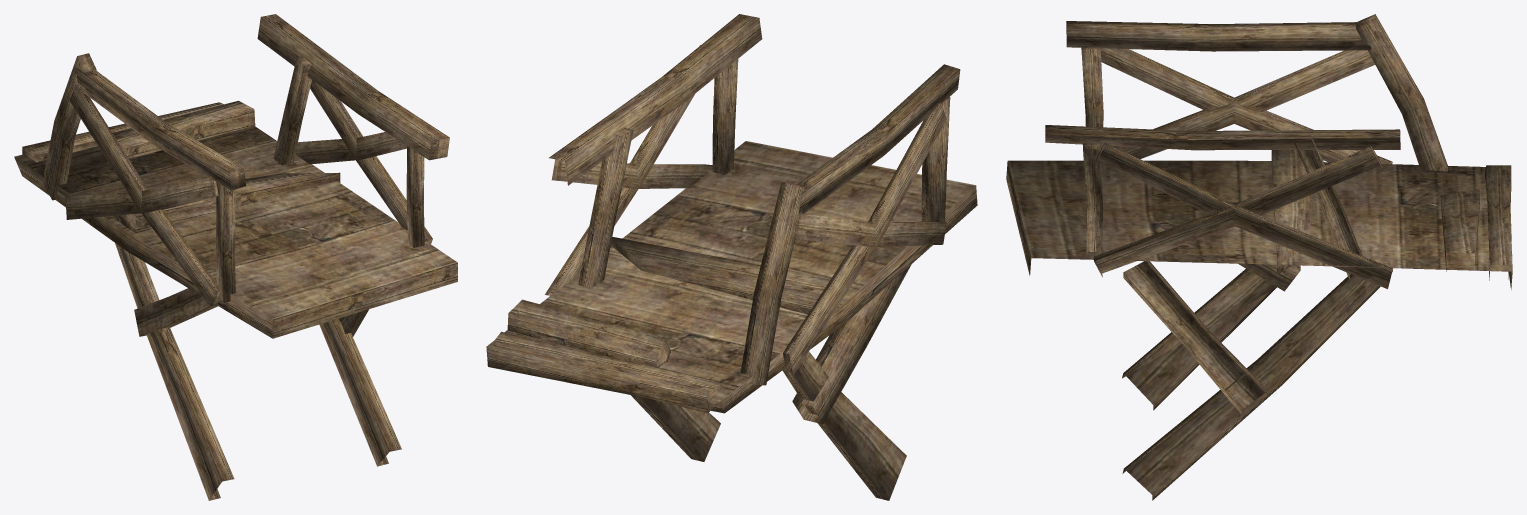
File: S_Build_West069_1.FBX
3 views of the same model, side by side, from view 1: azimuth 30°, elevation 25°; view 2: azimuth 150°, elevation 25°; view 3: azimuth 270°, elevation 25° (orthographic). The views are drawn at different scales.
Parts seen in each view (by area): view 1: S_Build_West069_1; view 2: S_Build_West069_1; view 3: S_Build_West069_1.
Boxes of the visible parts, left/top/right/bottom form: S_Build_West069_1: left=14, top=14, right=457, bottom=500; S_Build_West069_1: left=486, top=14, right=977, bottom=500; S_Build_West069_1: left=1006, top=14, right=1512, bottom=500.
Bounding box in the file's own units: 144 × 277 × 233.
